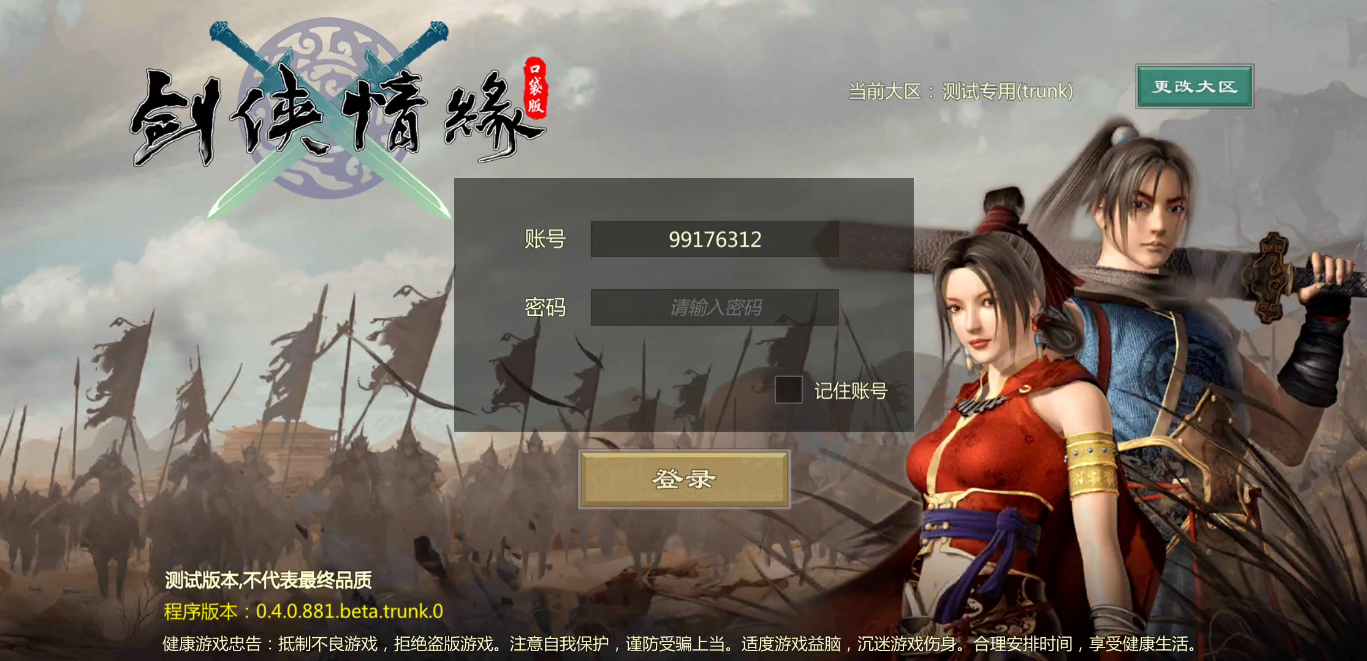login: (579, 451, 791, 509)
